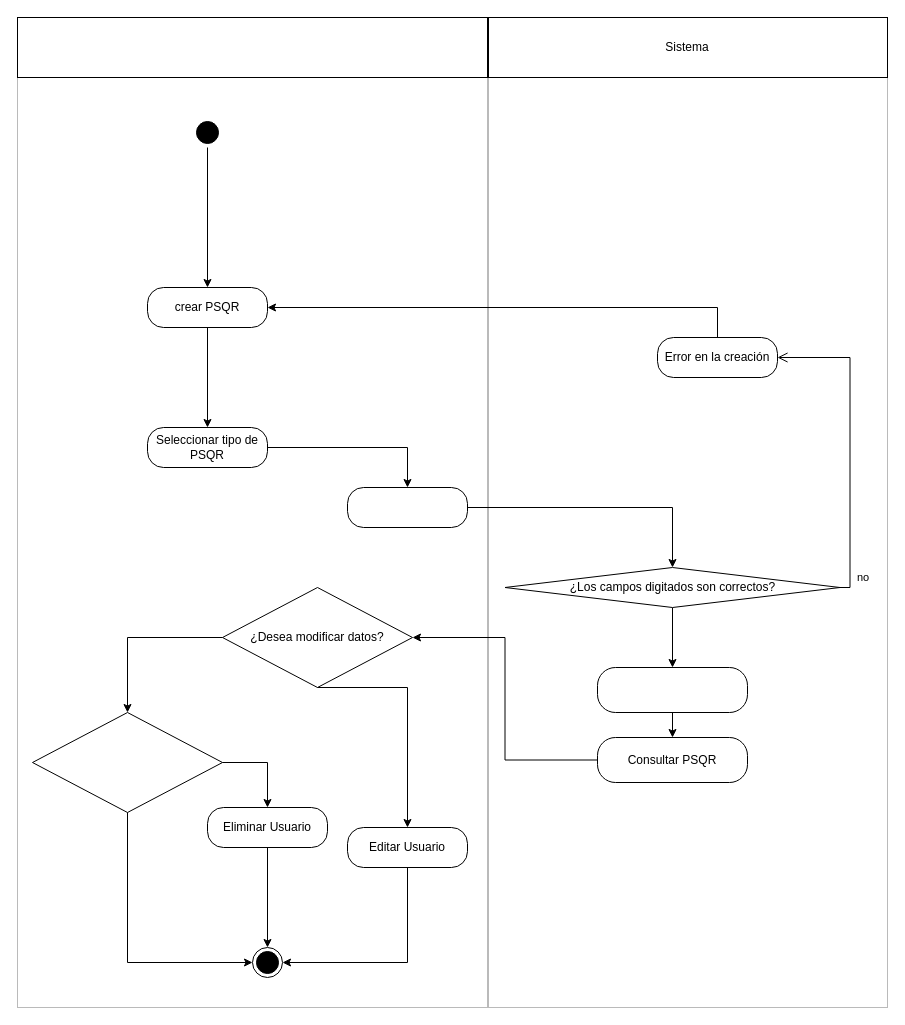
This 905x1025 diagram has some shape labels left out. Each missing label, with the centre of its shape:
Adicionar evidencia (JPEG, PDF,etc): the point at 407,507
Guardar PSQR: the point at 672,689
Pasajero: the point at 252,47
¿Desea eliminar usuario?: the point at 127,762
